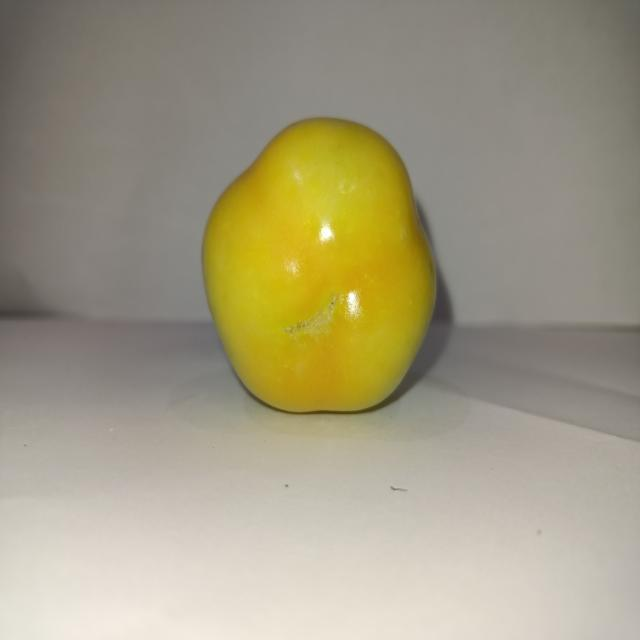Red: (200, 115, 438, 414)
